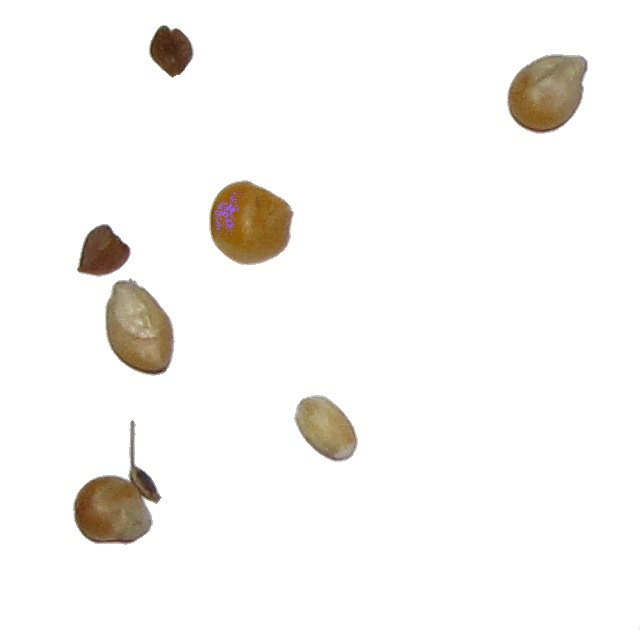buckwheat: (76, 223, 132, 278), (148, 24, 195, 79)
mais: (208, 179, 295, 266), (104, 277, 176, 377), (506, 53, 589, 135), (72, 466, 150, 546)
other: (293, 394, 359, 463)
